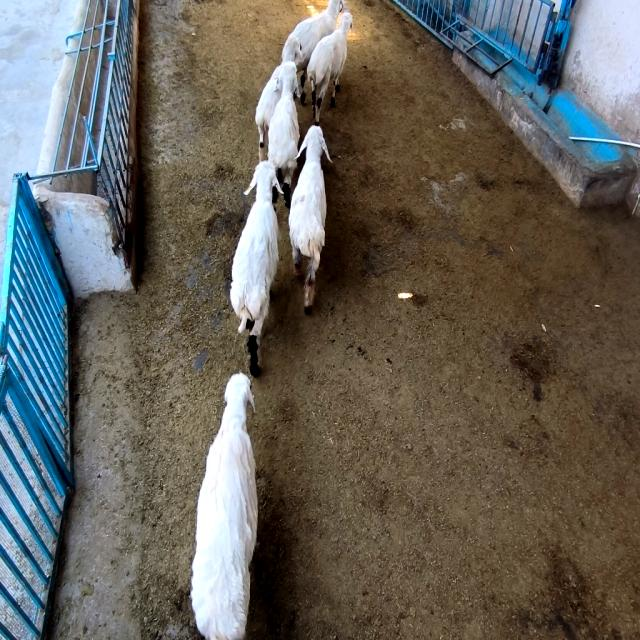sheep: (191, 373, 258, 638), (230, 162, 279, 377), (289, 125, 330, 312), (290, 0, 344, 102), (308, 12, 352, 124), (268, 62, 300, 206), (255, 63, 282, 161), (282, 37, 302, 62)
